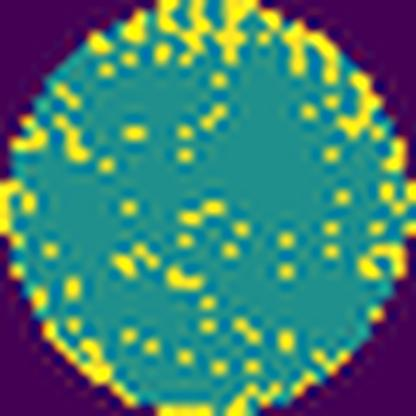Edge-Loc: (263, 6, 339, 85), (148, 0, 212, 74), (336, 69, 388, 146), (218, 0, 260, 65), (360, 240, 413, 282)
